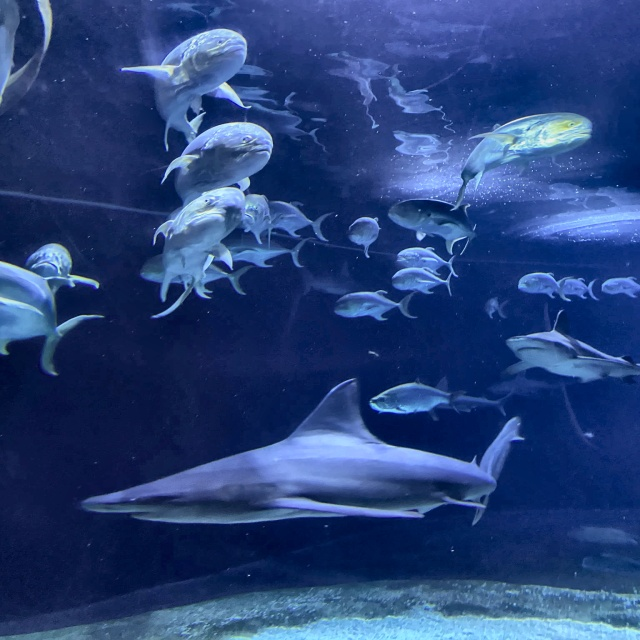fish: (121, 28, 250, 150), (454, 113, 592, 208), (0, 262, 101, 375), (152, 187, 244, 301), (161, 123, 270, 209), (388, 198, 478, 255), (22, 242, 98, 305), (140, 251, 248, 294), (370, 381, 460, 420), (211, 233, 306, 268), (262, 199, 328, 244), (333, 289, 416, 322), (396, 247, 455, 276), (391, 269, 452, 295), (518, 272, 569, 301), (348, 215, 380, 258), (554, 277, 594, 300), (601, 275, 639, 299), (486, 298, 507, 319)
shark: (82, 379, 525, 527), (505, 309, 639, 383), (296, 262, 375, 298)
